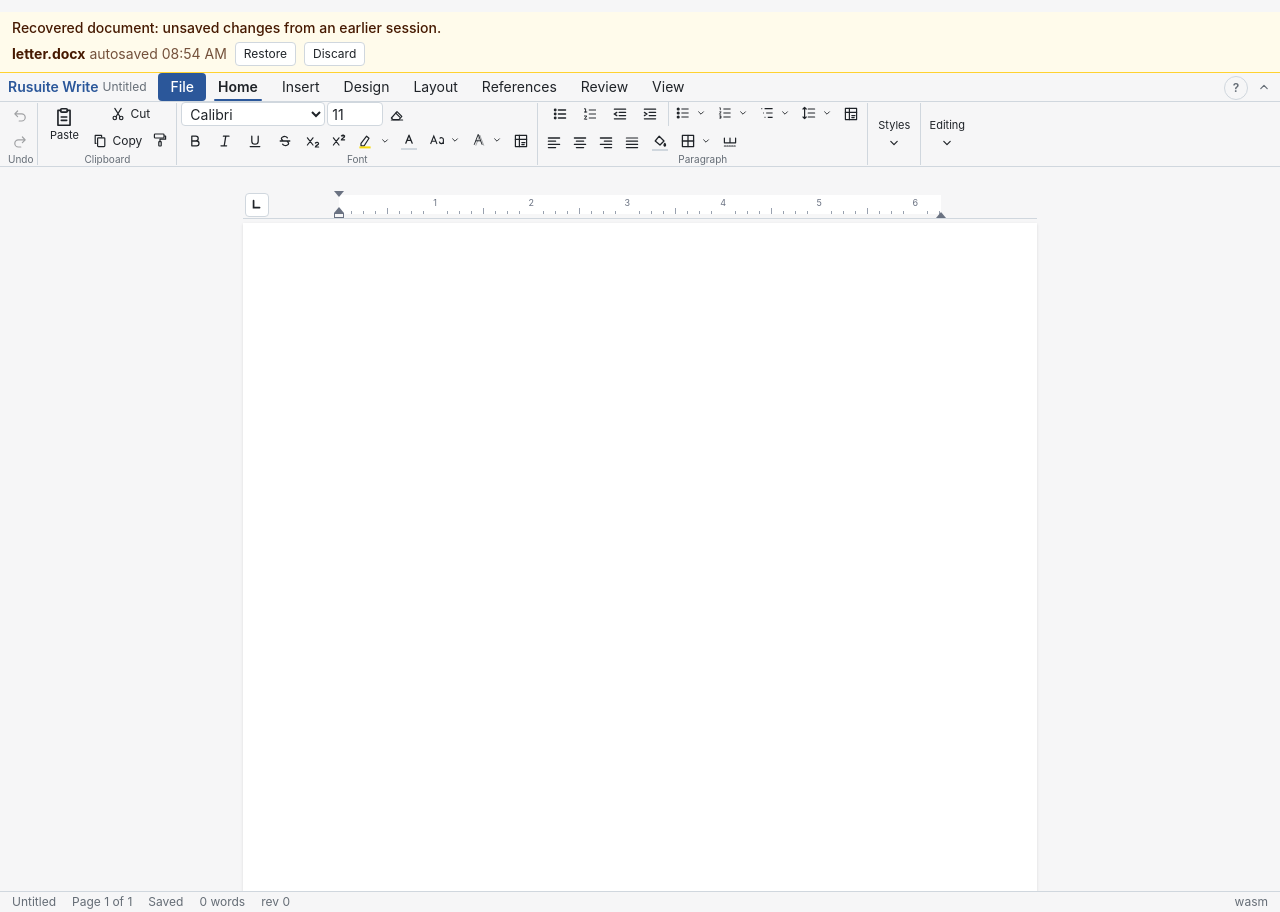
Test: Write app recovery (P5-3) › restores an autosaved document from the banner as modified
Expected: the element named "Recovered documents" shows "letter.docx", [12,45,85,62]
Click the button with aria-label "Restore letter.docx" at (265, 54), box [235,42,296,66]
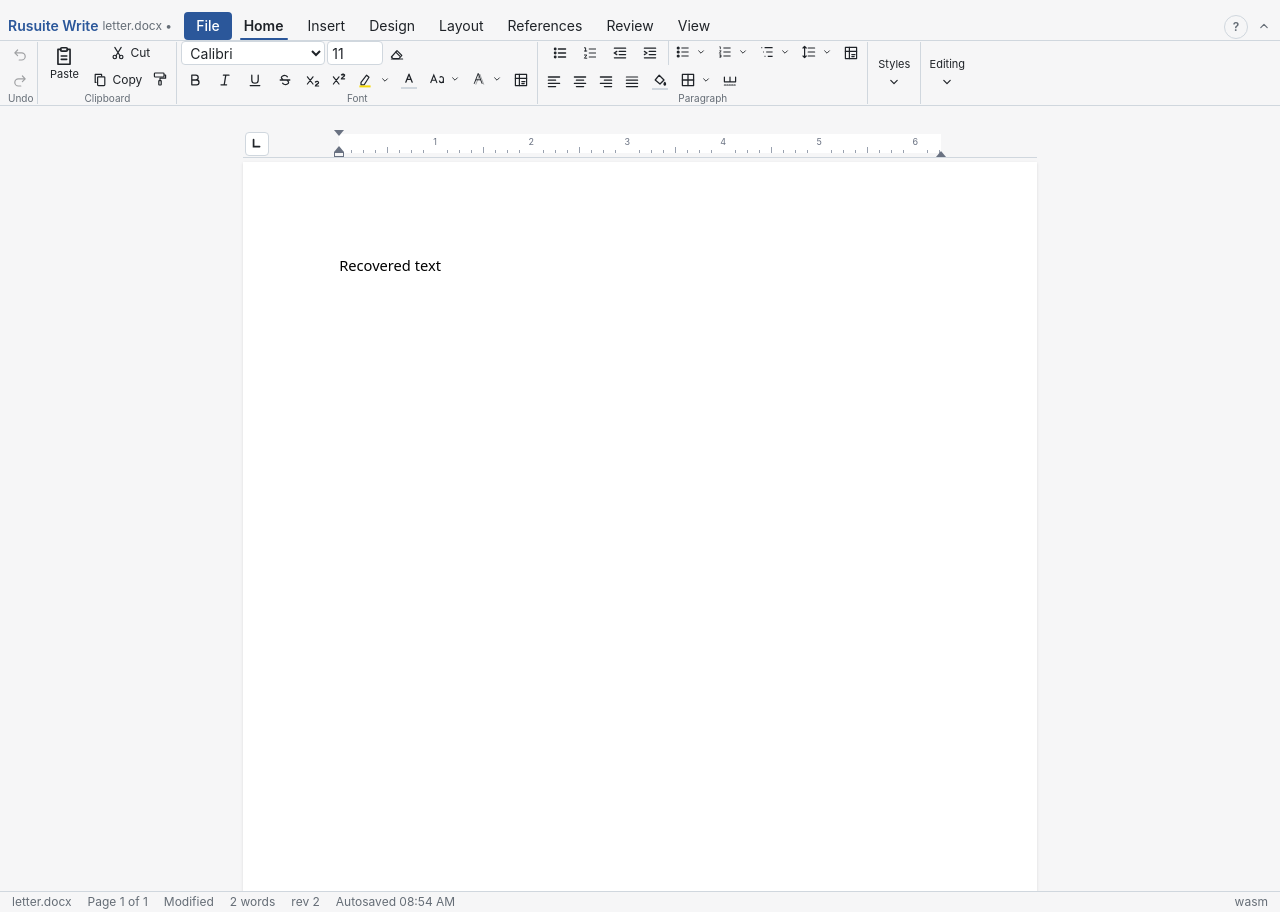
Result: the field with test id "editor" reads "Recovered text" at [339,255,441,275]
Result: the text with test id "doc-name" reads "letter.docx" at [12,894,72,909]
Result: the text with test id "dirty" reads "Modified" at [164,894,214,909]
